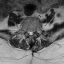CCS_stenosis: (30, 29, 31, 37)
LFS_normal: (33, 27, 36, 34)
LLS_normal: (31, 29, 33, 36)
RFS_stenosis: (25, 27, 27, 34)
RLS_normal: (27, 29, 30, 36)
